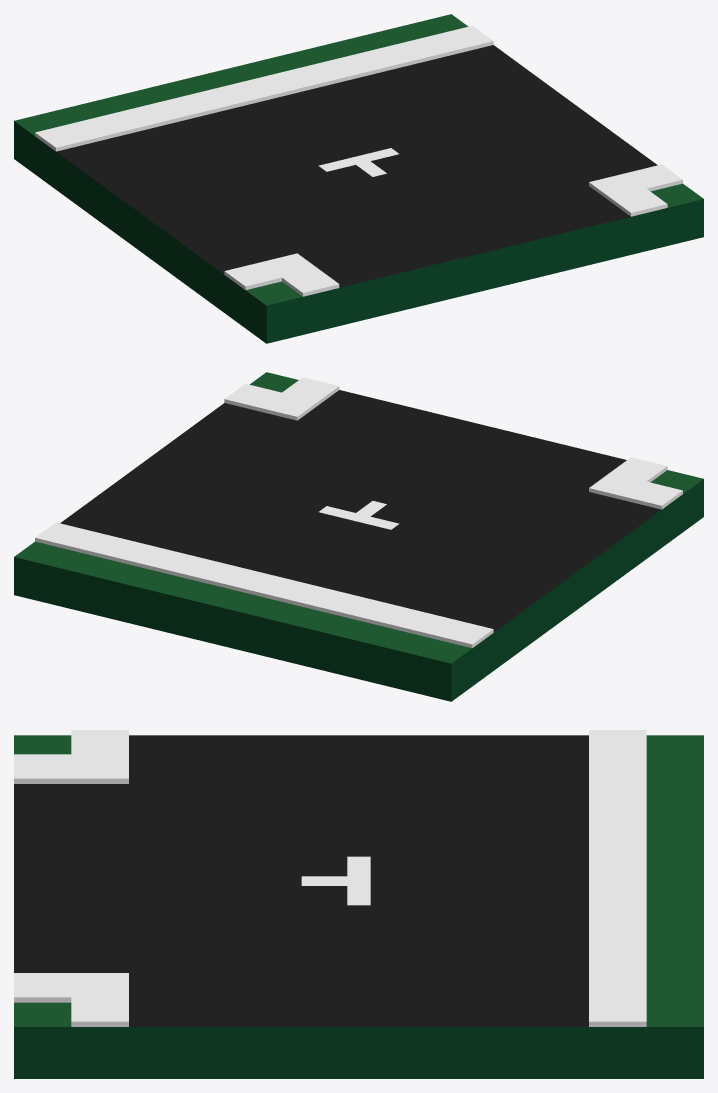
File: T intersection.glb
The picture shows the model from 3 angles, top to bottom: view 1: azimuth 30°, elevation 25°; view 2: azimuth 150°, elevation 25°; view 3: azimuth 270°, elevation 25°; orthographic projection. The views are drawn at different scales.
Parts seen in each view (by area): view 1: t-intersection; view 2: t-intersection; view 3: t-intersection.
Boxes of the visible parts, left/top/right/bottom form: t-intersection: left=14, top=14, right=703, bottom=343; t-intersection: left=14, top=372, right=703, bottom=701; t-intersection: left=14, top=730, right=703, bottom=1078.
Bounding box in the file's own units: 12 × 1.1 × 12.
1 material, 1 textured.
